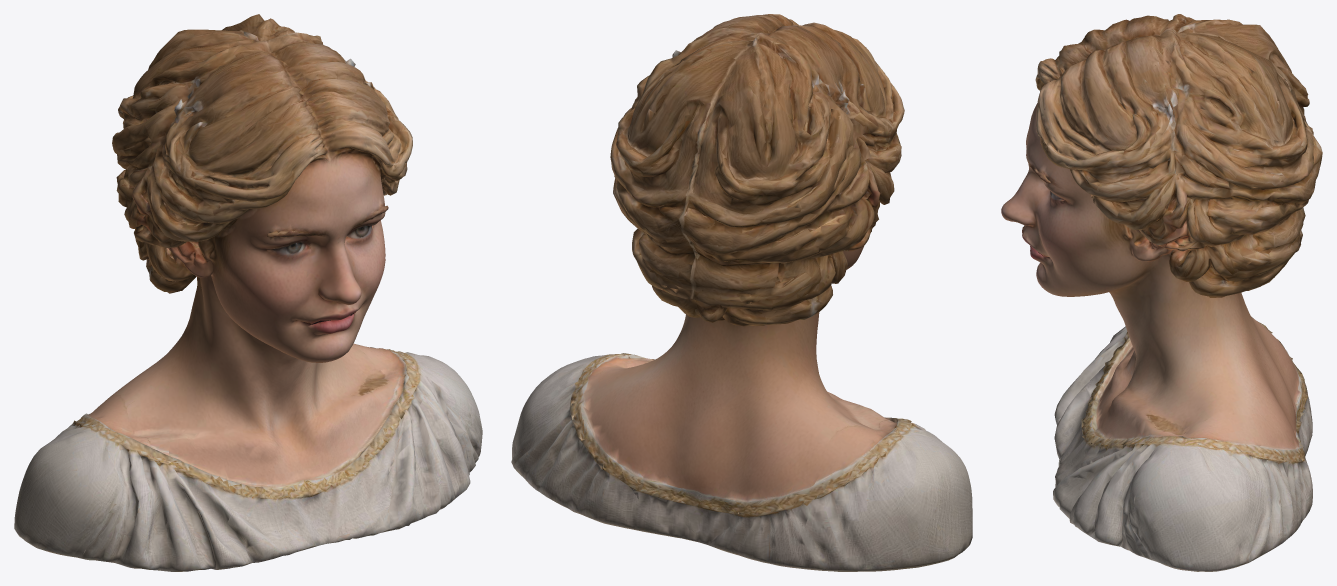
Rendered from angel-female.glb.
The picture shows the model from 3 angles, left to right: view 1: azimuth 30°, elevation 25°; view 2: azimuth 150°, elevation 25°; view 3: azimuth 270°, elevation 25°; orthographic projection. The views are drawn at different scales.
Parts seen in each view (by area): view 1: Head; view 2: Head; view 3: Head.
Boxes of the visible parts, left/top/right/bottom form: Head: left=14, top=14, right=482, bottom=571; Head: left=511, top=14, right=972, bottom=571; Head: left=1001, top=14, right=1322, bottom=571.
Bounding box in the file's own units: 1.7 × 1.7 × 1.11.
Materials: 1 (1 with a texture image).
